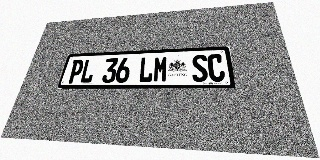3: (101, 58, 118, 83)
6: (115, 57, 131, 83)
C: (207, 54, 226, 82)
L: (79, 59, 97, 83), (138, 57, 154, 83)
M: (153, 56, 168, 82)
P: (67, 59, 85, 83)
S: (192, 54, 208, 82)
